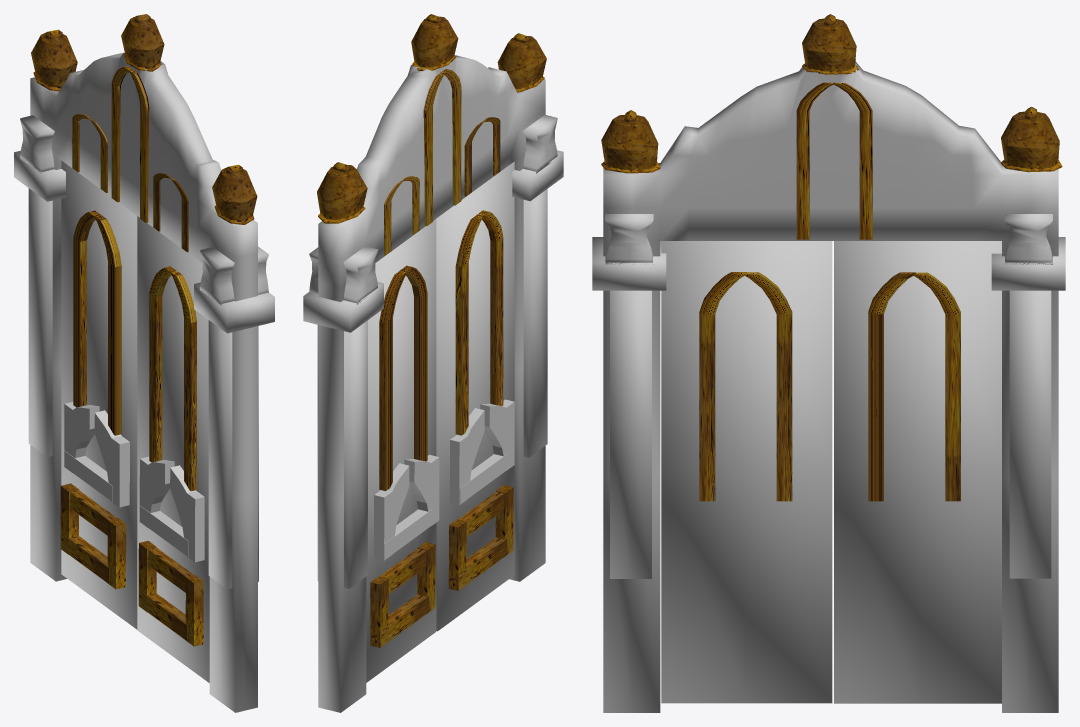
The model's file is porta funcional com ajustes.fbx.
3 views of the same model, side by side, from view 1: azimuth 30°, elevation 25°; view 2: azimuth 150°, elevation 25°; view 3: azimuth 270°, elevation 25° (orthographic). The views are drawn at different scales.
Parts seen in each view (by area): view 1: Cubo, Cubo.002, Cubo.001, Cubo.012, Cubo.014, Cubo.007, Cubo.008, Cubo.004, Cubo.006, Cubo.005, Cubo.003, Cubo.009 (+5 smaller); view 2: Cubo, Cubo.001, Cubo.002, Cubo.014, Cubo.012, Cubo.007, Cubo.008, Cubo.004, Cubo.006, Cubo.005, Cubo.003, Cubo.009 (+5 smaller); view 3: Cubo, Cubo.001, Cubo.002, Cubo.014, Cubo.012, Cubo.008, Cubo.007, Cubo.009, Cubo.013, Cubo.016, Cubo.015.
Boxes of the visible parts, <box> form: Cubo: <box>30,52,257,712</box>; Cubo.002: <box>61,160,137,629</box>; Cubo.001: <box>137,216,209,682</box>; Cubo.012: <box>194,246,274,589</box>; Cubo.014: <box>14,115,65,457</box>; Cubo.007: <box>73,210,121,435</box>; Cubo.008: <box>149,266,196,491</box>; Cubo.004: <box>64,402,129,507</box>; Cubo.006: <box>139,456,204,562</box>; Cubo.005: <box>60,483,126,589</box>; Cubo.003: <box>138,540,203,646</box>; Cubo.009: <box>111,66,149,222</box>; Cubo: <box>318,55,545,712</box>; Cubo.001: <box>436,161,514,631</box>; Cubo.002: <box>366,219,436,682</box>; Cubo.014: <box>303,246,383,588</box>; Cubo.012: <box>512,115,563,457</box>; Cubo.007: <box>379,265,427,491</box>; Cubo.008: <box>455,210,503,435</box>; Cubo.004: <box>374,454,439,560</box>; Cubo.006: <box>449,399,514,505</box>; Cubo.005: <box>370,542,435,647</box>; Cubo.003: <box>448,485,513,590</box>; Cubo.009: <box>423,69,461,225</box>; Cubo: <box>603,61,1058,712</box>; Cubo.001: <box>661,241,832,703</box>; Cubo.002: <box>834,241,1001,703</box>; Cubo.014: <box>991,214,1065,578</box>; Cubo.012: <box>592,214,666,578</box>; Cubo.008: <box>699,272,792,501</box>; Cubo.007: <box>868,272,960,501</box>; Cubo.009: <box>796,82,872,239</box>; Cubo.013: <box>1001,106,1062,172</box>; Cubo.016: <box>601,110,660,173</box>; Cubo.015: <box>802,14,858,74</box>.
Bounding box in the file's own units: 91.81 × 1147 × 714.
